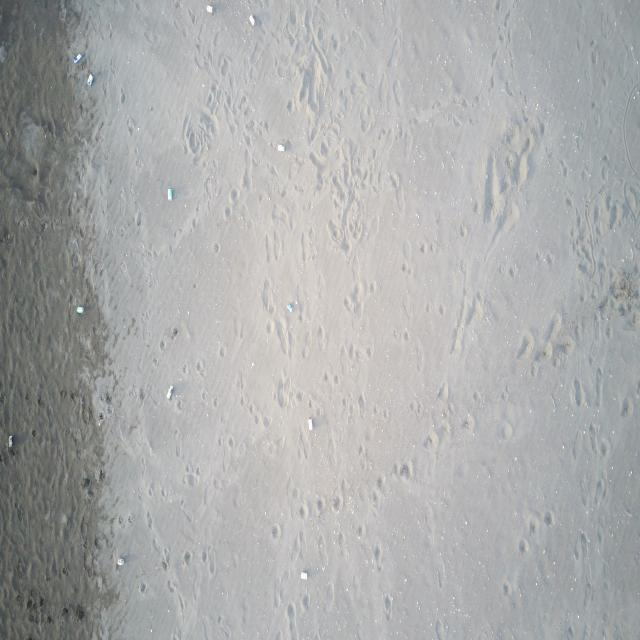Garbage: (74, 52, 83, 63), (0, 44, 5, 63), (87, 72, 94, 85), (248, 13, 255, 26), (166, 384, 172, 399), (116, 556, 124, 566), (167, 187, 173, 200), (75, 304, 83, 313), (307, 416, 312, 430), (287, 301, 293, 312), (276, 143, 284, 151), (300, 571, 307, 580), (8, 435, 12, 447), (207, 4, 212, 12)
